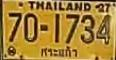0: (23, 12, 37, 41)
1: (54, 13, 58, 42)
3: (80, 14, 94, 43)
4: (96, 14, 111, 44)
7: (8, 12, 21, 41), (66, 13, 78, 43)
SKW: (38, 44, 80, 59)
